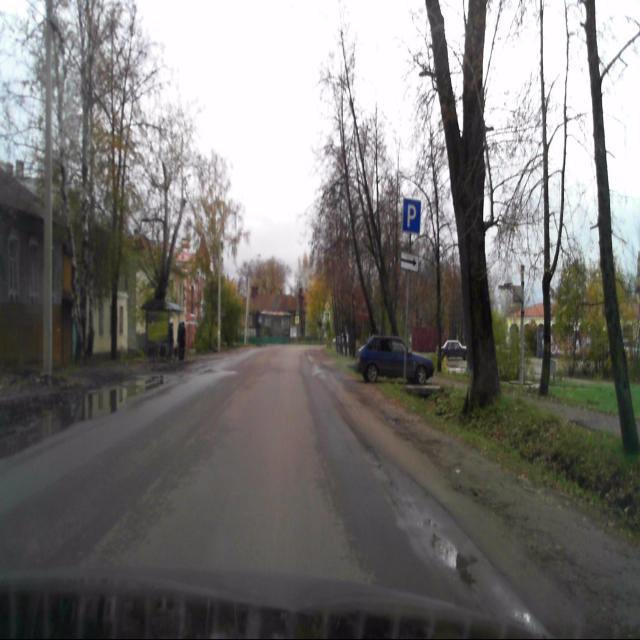road sign: (402, 199, 420, 236), (400, 252, 419, 271)
